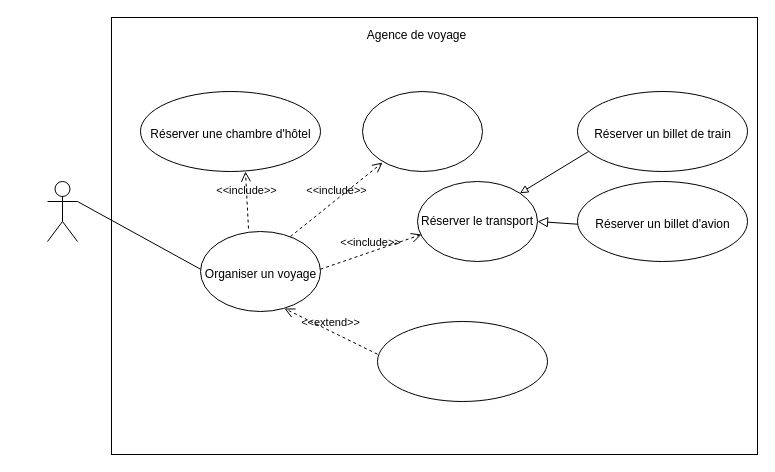
This 775x472 diagram has some shape labels left out. The shapes that lost their labels are listed below. From the top down, each one's centre as x and y in pixels, then its label:
At (422,131): "Réserver un taxi".
At (62,211): "Agent de voyage".
At (462,361): "Établir une facture détaillée".
